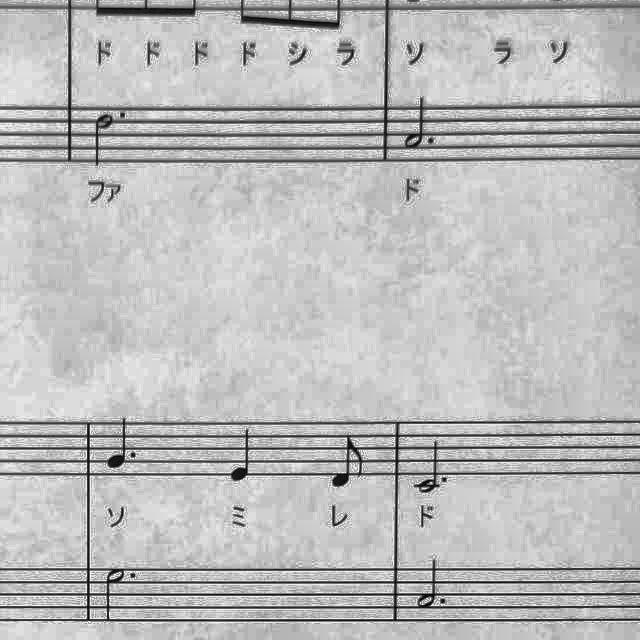Eighth-note: (326, 430, 372, 492)
Half-dot: (83, 105, 129, 172), (410, 439, 454, 501), (401, 95, 443, 157), (411, 554, 454, 612), (103, 560, 141, 624)
Quarter-dot: (104, 412, 146, 476)
Quarter-note: (224, 424, 264, 488)
